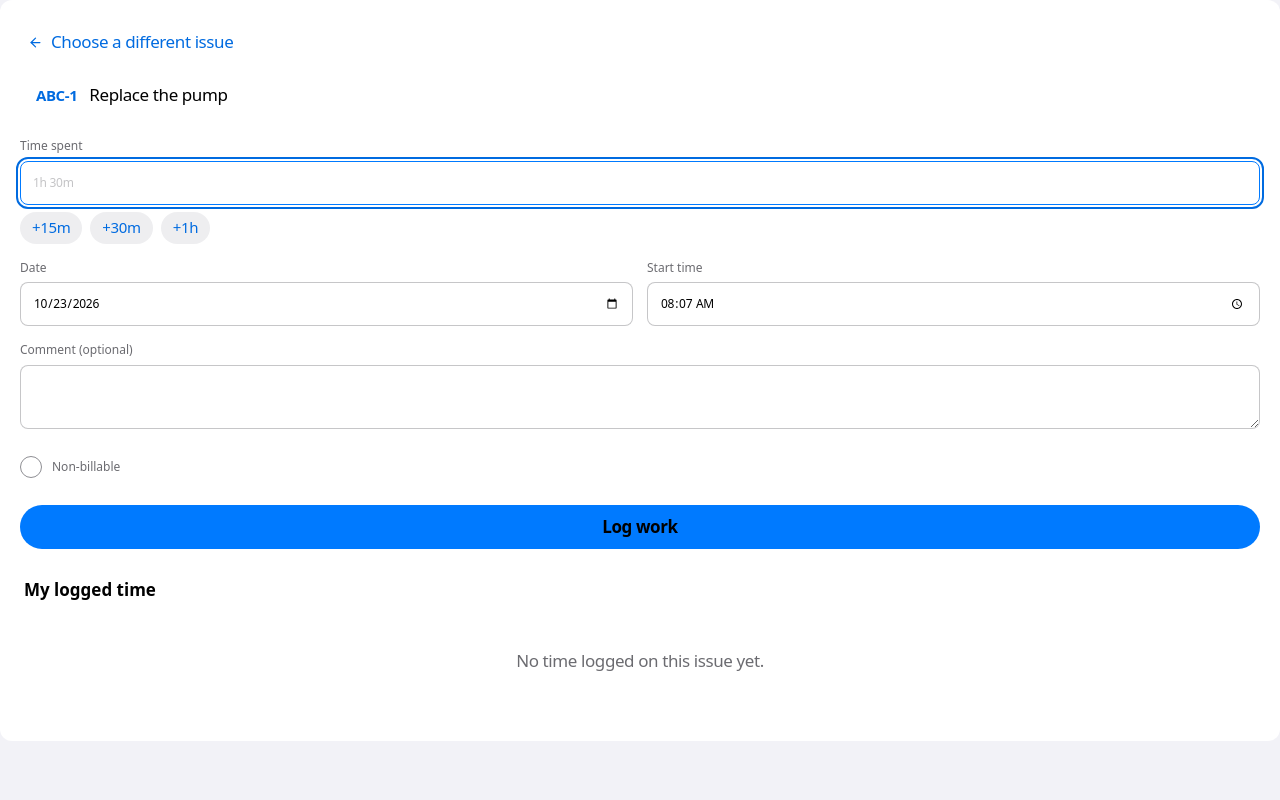
Test case: logging › keeps the draft and says why when Jira refuses
Type "2h" into the field labelled "Time spent" at (640, 182), box [20,160,1260,204]
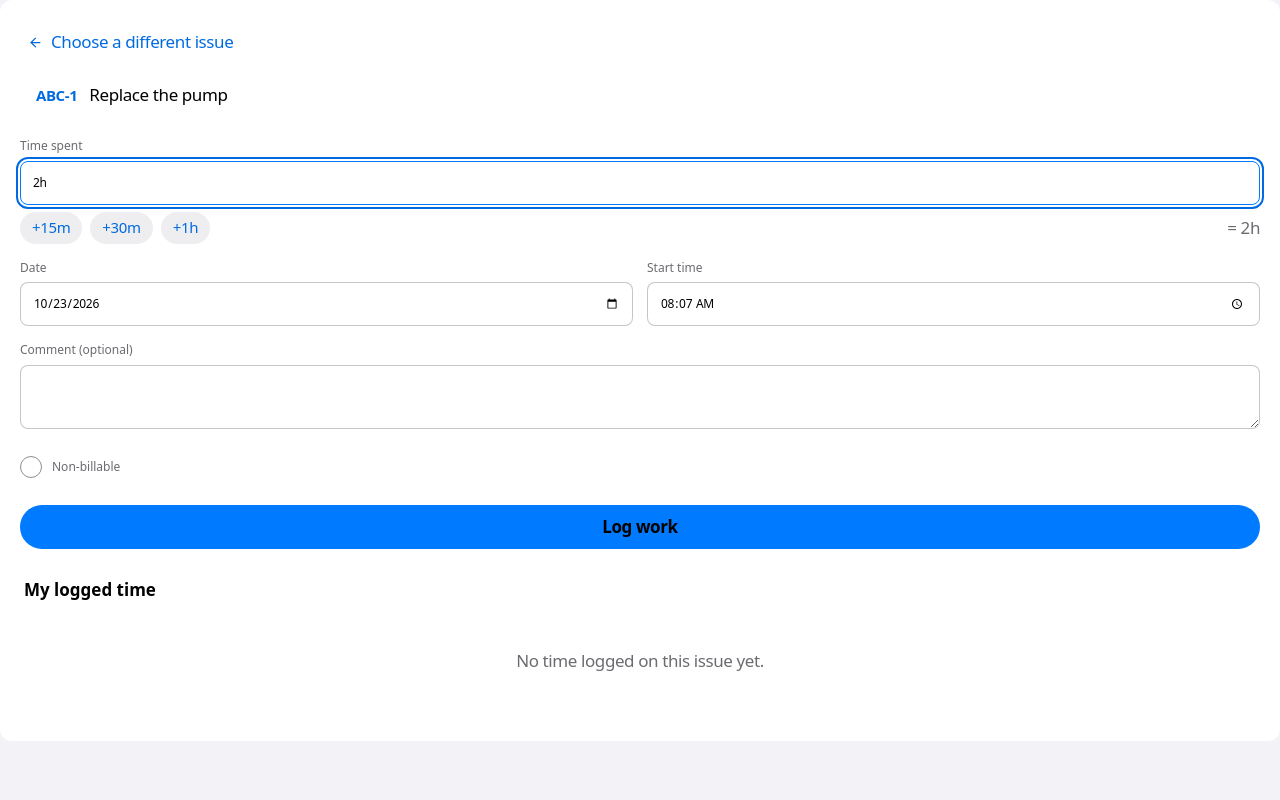
Click the button "Log work" at (640, 527), box [20,505,1260,549]
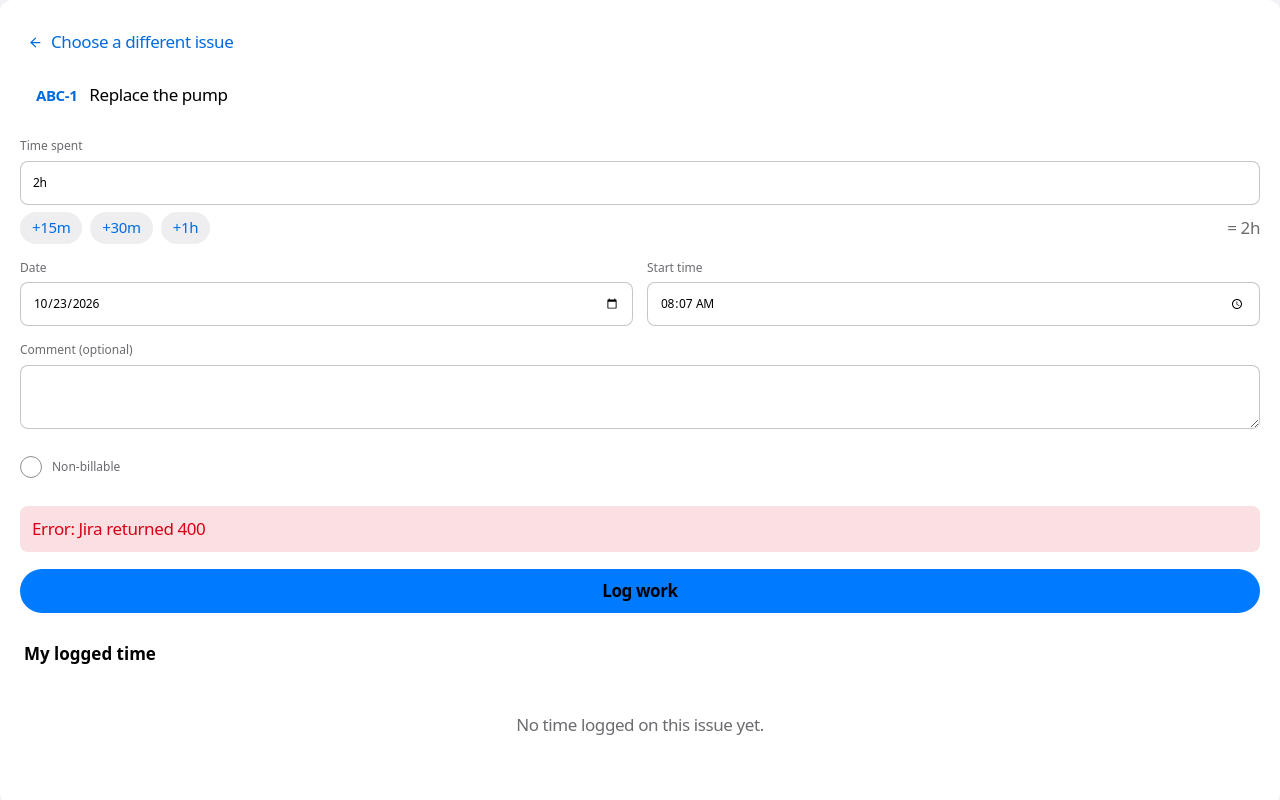
Result: the text "Error: Jira returned 400" is shown at [20,506,1260,552]
